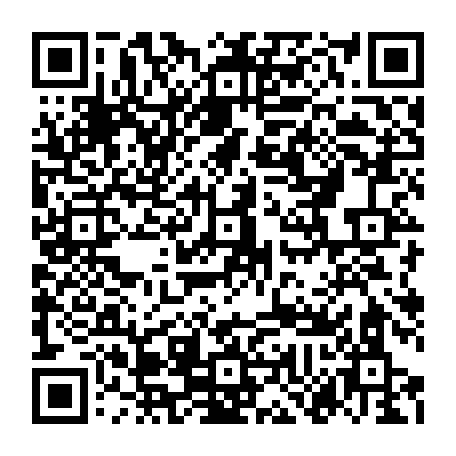QR_CODE: (21, 22, 431, 431)
